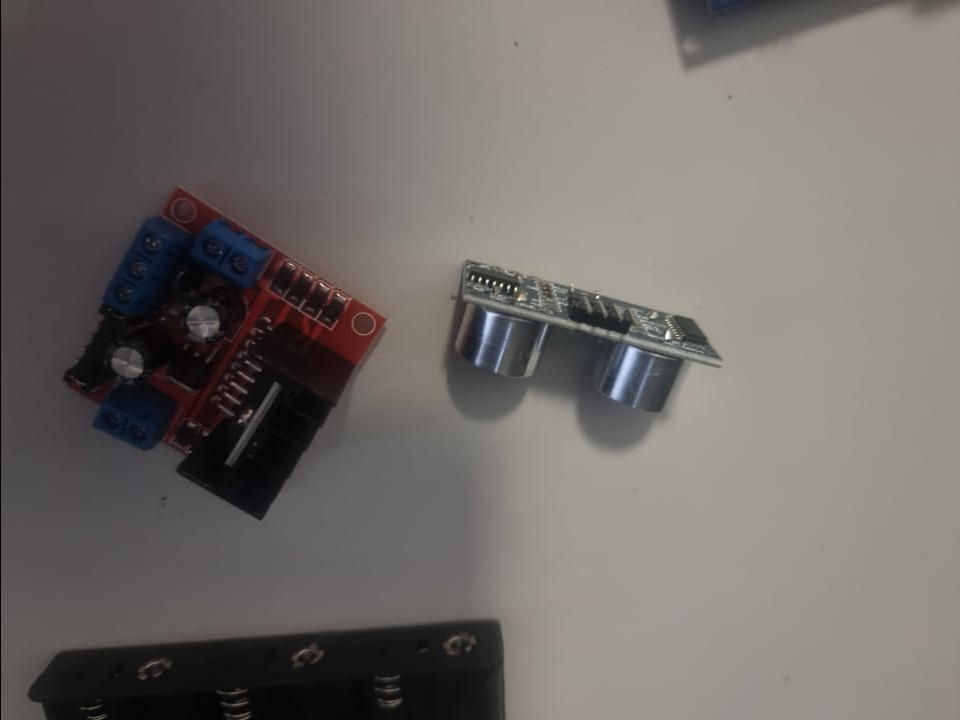BATTERY BOX: (26, 603, 506, 720)
MOTOR: (61, 188, 386, 527)
SENSOR: (444, 249, 724, 418)
